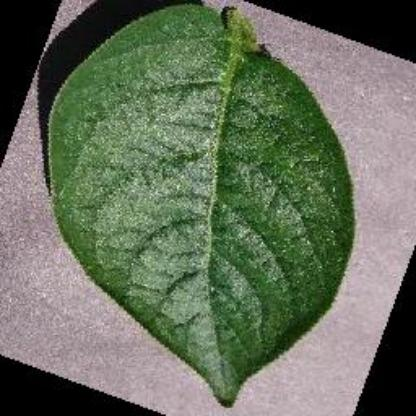Healthy-plant: (41, 3, 358, 412)
